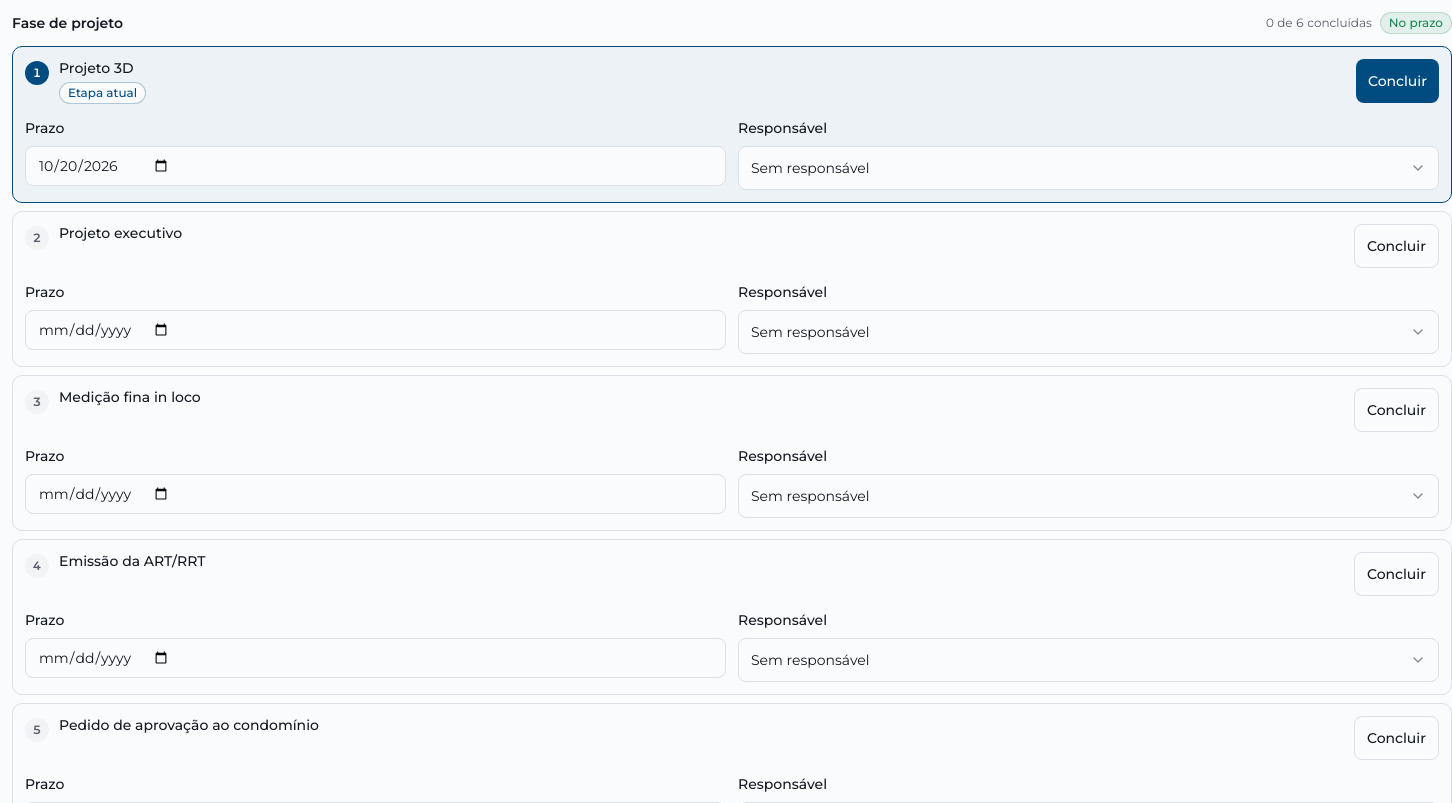
Fase de projeto: prazo e responsável › durante a gravação: o digitado não é desfeito por uma releitura, o campo não trava e a lista não desmonta
The width and height of the screenshot is (1452, 803).
Later steps or results of the test are not shown.
Type "2026-10-23" into the date field labelled "Prazo" below "Etapa atual".
click(376, 166); type("2026-10-23")  # box [25,146,726,186]
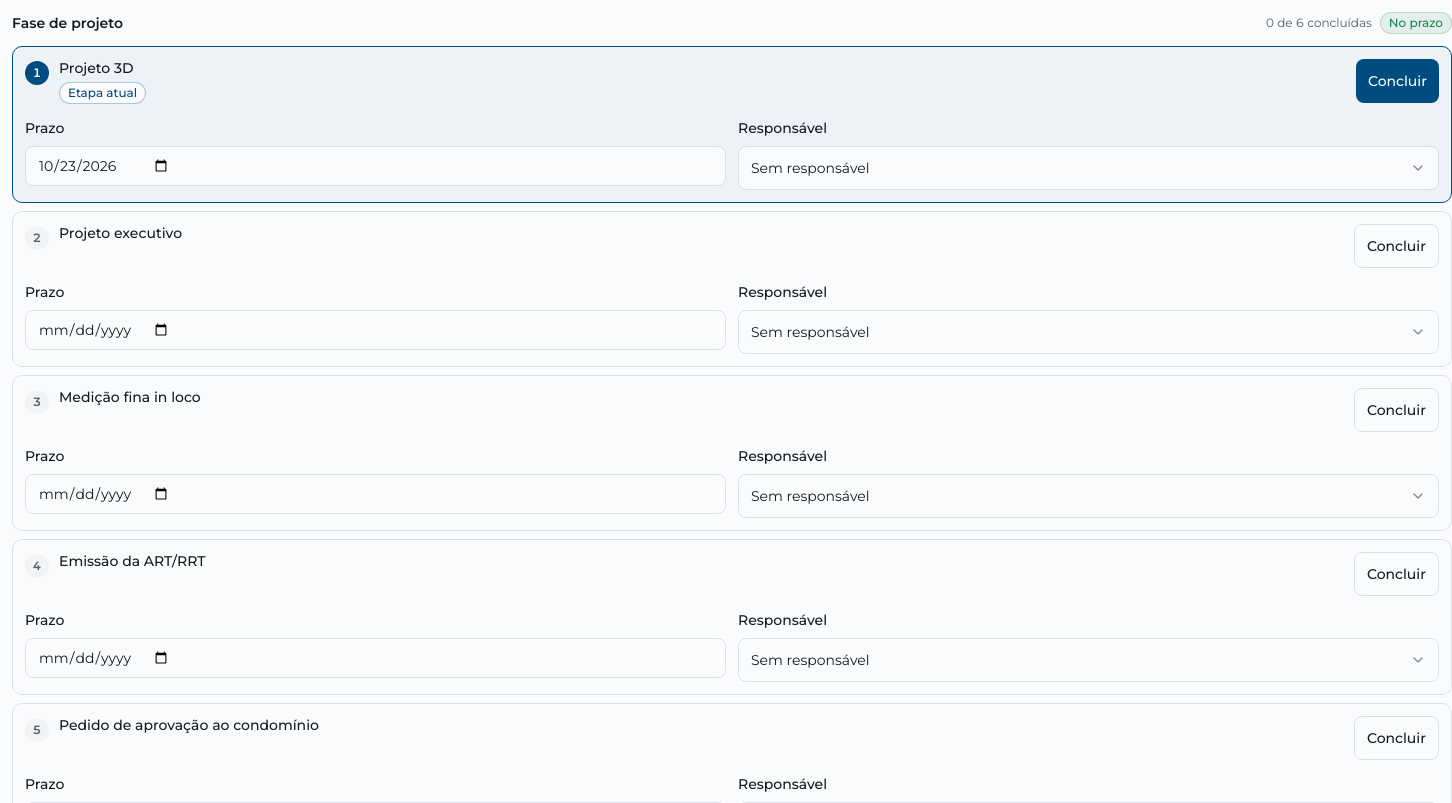
Leave the date field labelled "Prazo" below "Etapa atual", box [25,146,726,186]
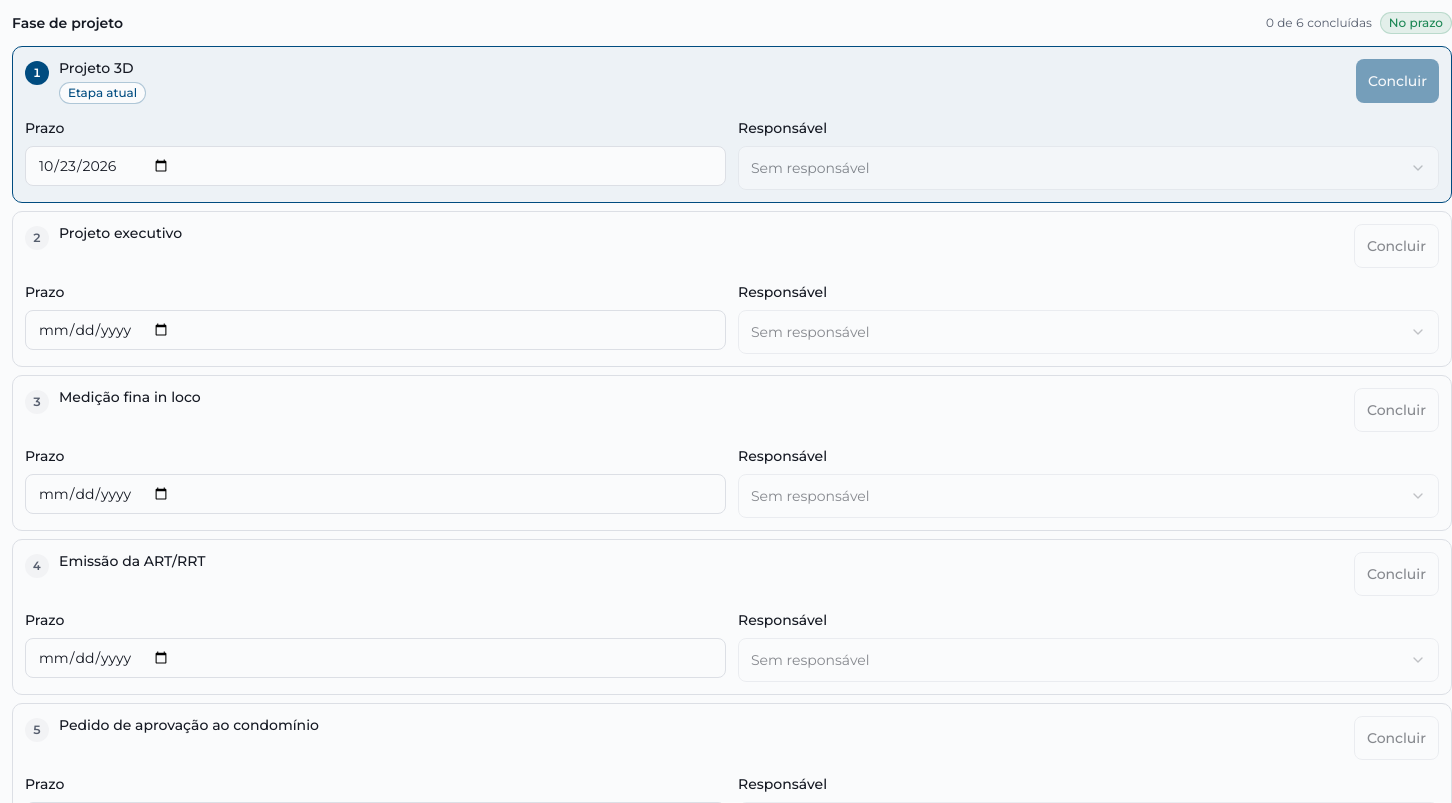
Check: the date field labelled "Prazo" below "Projeto executivo" is enabled, box [25,310,726,350]
Check: the button "Concluir" in the row of "Etapa atual" is disabled, box [1356,59,1439,103]
Check: the 2nd dropdown labelled "Sem responsável" is disabled, box [738,310,1439,354]
